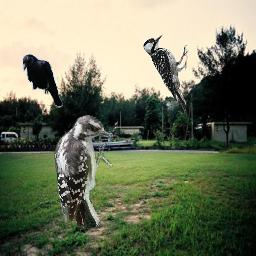Crow: (22, 54, 63, 109)
Woodpecker: (54, 115, 113, 231), (142, 34, 189, 119)
